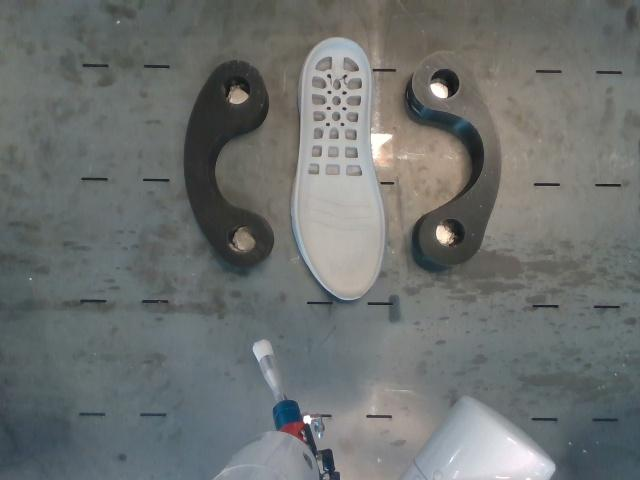shoes: (297, 38, 383, 299)
